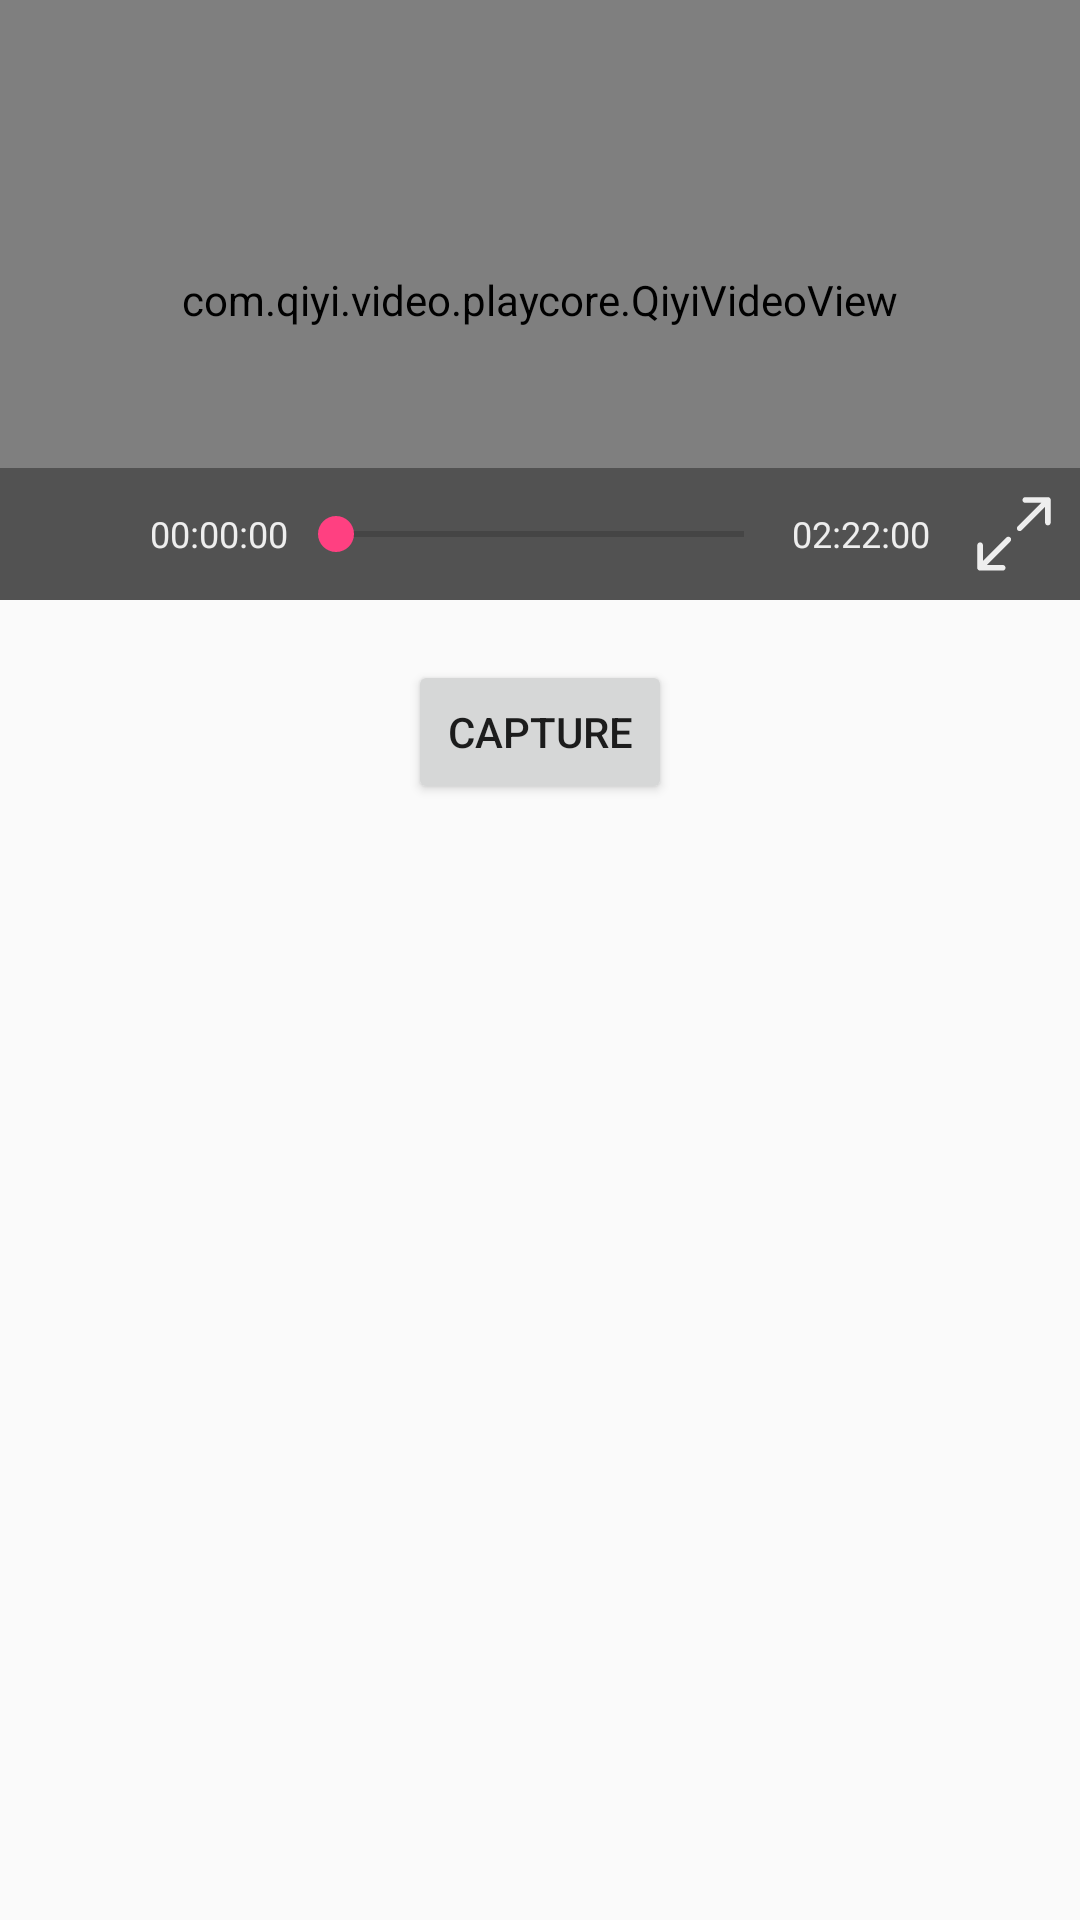

Where icons sit on this 1080 × 1920 app screen, as (left=x1, top=y1, right=x2, bottom=y2):
fullscreen: (left=977, top=497, right=1051, bottom=571)
